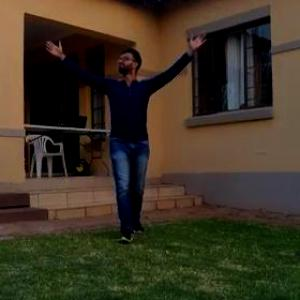takeoff: (30, 17, 227, 233)
